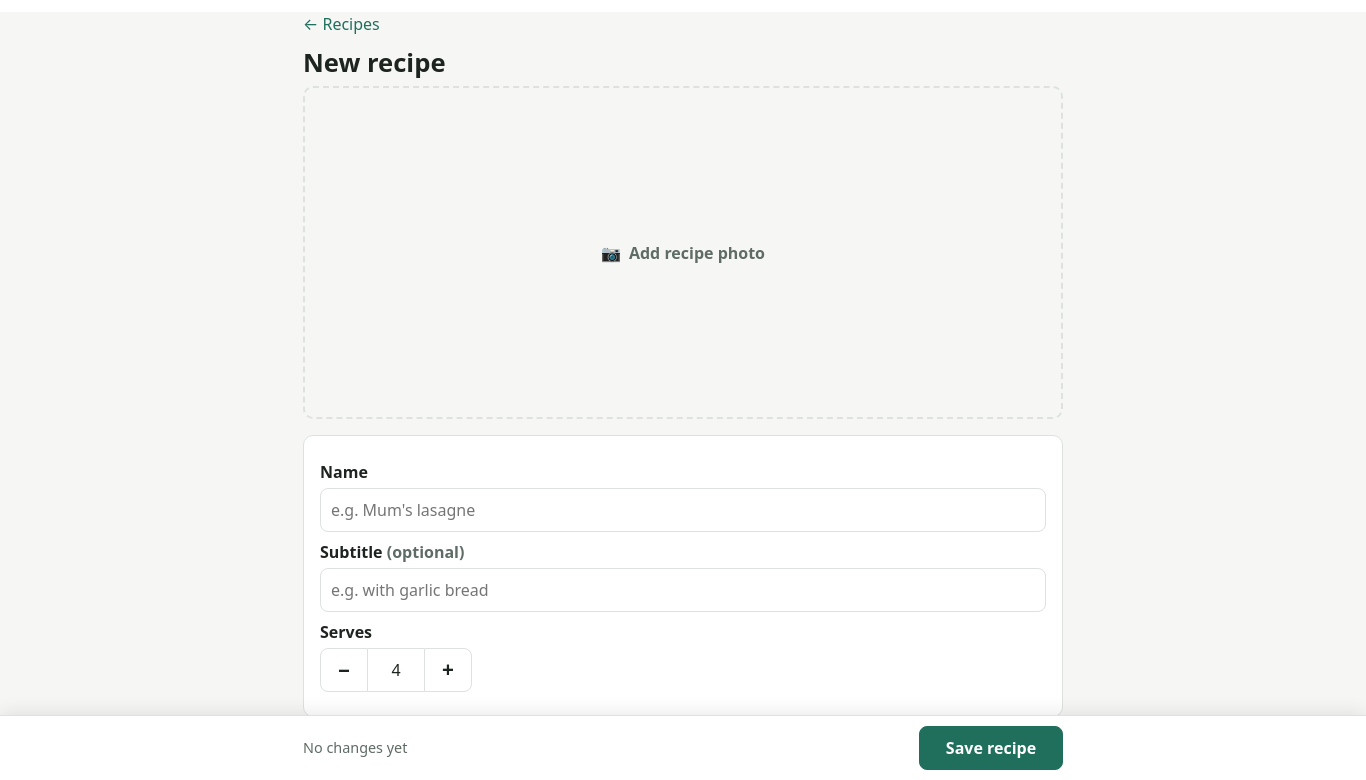
Test: new recipe (T1, T3, T4, T6, T8) › needs a name
Click the button "Save recipe". click: x=991, y=748
box: [919,726,1063,770]
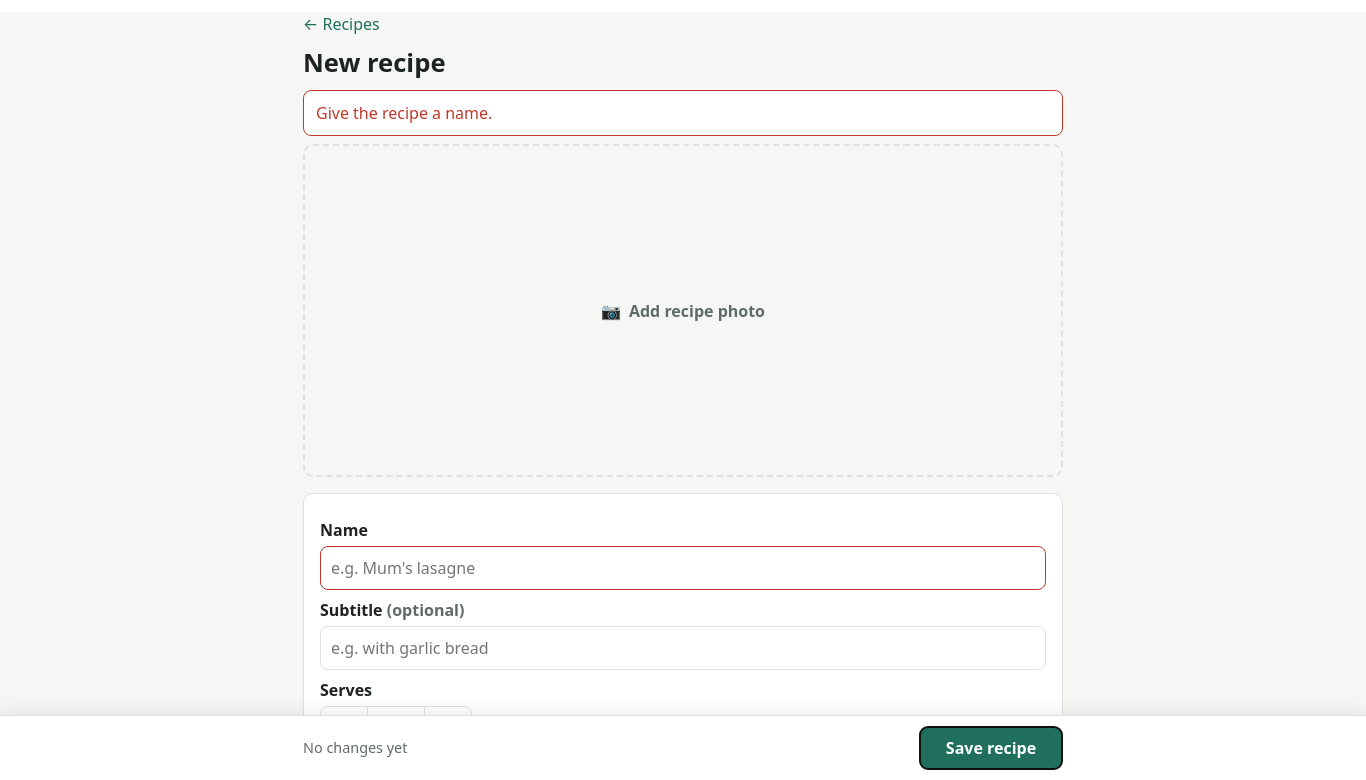
expect the message reads "Give the recipe a name.": met, box [316,102,492,124]
